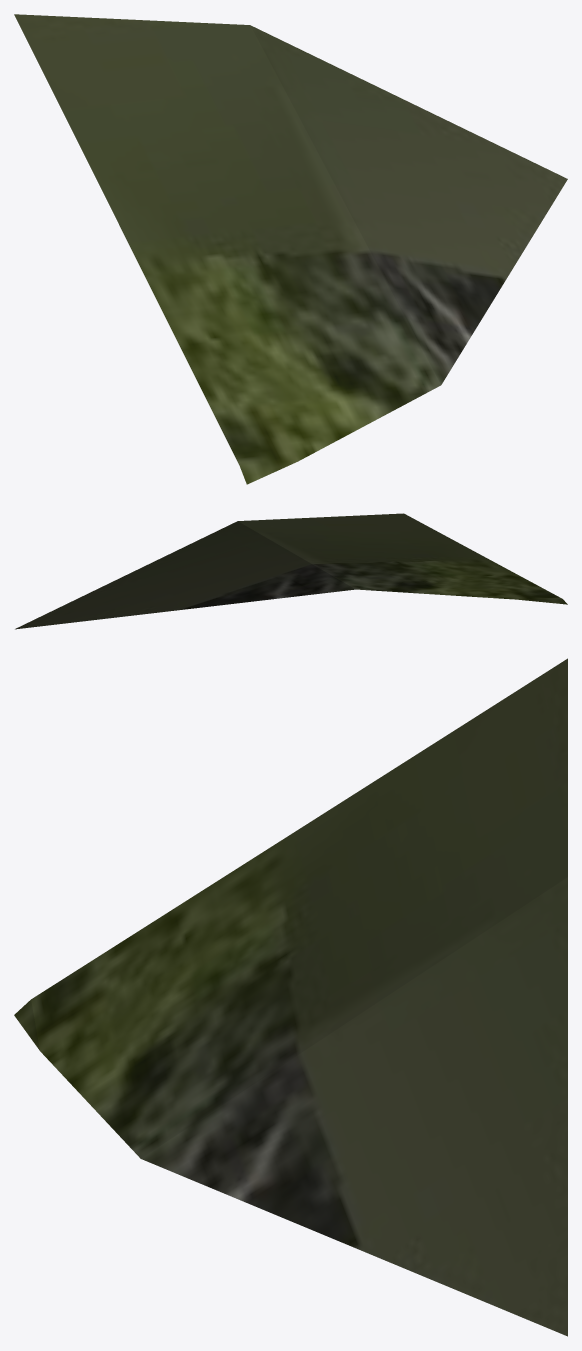
3 renders of one model, top to bottom at view 1: azimuth 30°, elevation 25°; view 2: azimuth 150°, elevation 25°; view 3: azimuth 270°, elevation 25°, orthographic. The views are drawn at different scales.
Bounding box in the file's own units: 1.42 × 0.7349 × 1.03.
Materials: 1 (1 with a texture image).
